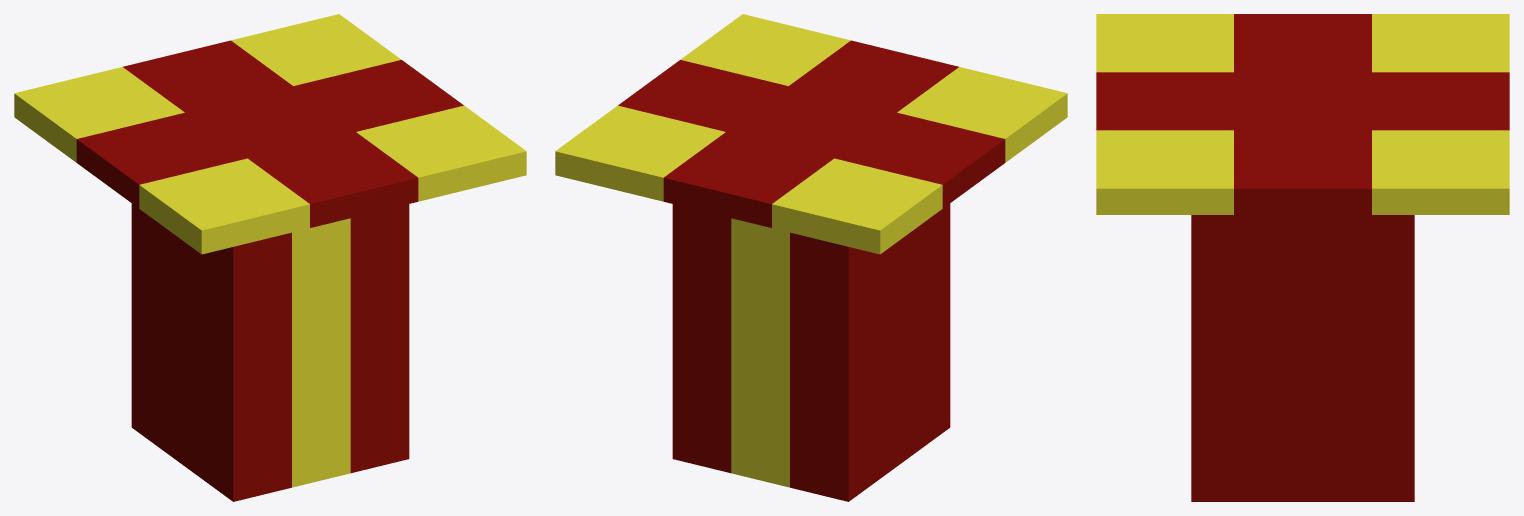
The model's file is mesa de entrega  1.fbx.
3 renders of one model, left to right at view 1: azimuth 30°, elevation 25°; view 2: azimuth 150°, elevation 25°; view 3: azimuth 270°, elevation 25°, orthographic. The views are drawn at different scales.
Parts seen in each view (by area): view 1: Cube.003, Cube.004; view 2: Cube.003, Cube.004; view 3: Cube.003, Cube.004.
Boxes of the visible parts, x1,y1,x2,y2 form: Cube.003: [14, 14, 526, 254]; Cube.004: [131, 203, 409, 501]; Cube.003: [555, 14, 1067, 254]; Cube.004: [672, 203, 950, 501]; Cube.003: [1096, 14, 1509, 214]; Cube.004: [1191, 215, 1414, 501].
Size of the model in its own units: 0.621 by 0.5863 by 0.621.
